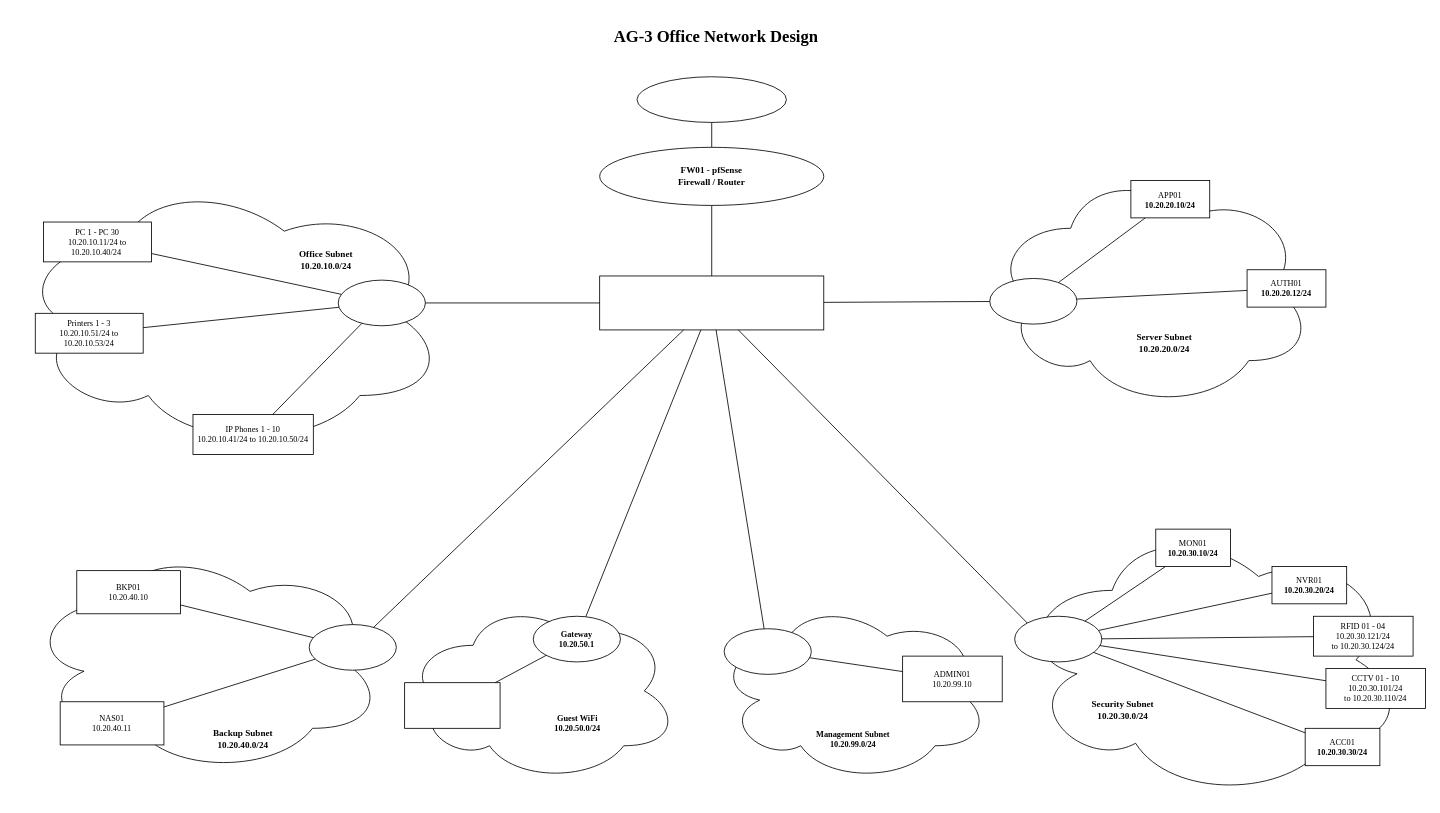
Image size: 1440x813. Some labels were removed from this diagram. The shapes that lost their labels are listed below. From the top down, each one's centre as x and y in pixels, then its label:
pixel 711 99: Internet
pixel 381 302: Gateway 10.20.10.1
pixel 711 302: SW01 Core Managed
pixel 1033 301: Gateway 10.20.20.1
pixel 352 647: Gateway 10.20.40.1
pixel 767 651: Gateway 10.20.99.1
pixel 1058 638: Gateway 10.20.30.1
pixel 452 705: Guest Devices DHCP 10.20.50.100/24 to 10.20.50.199/24
